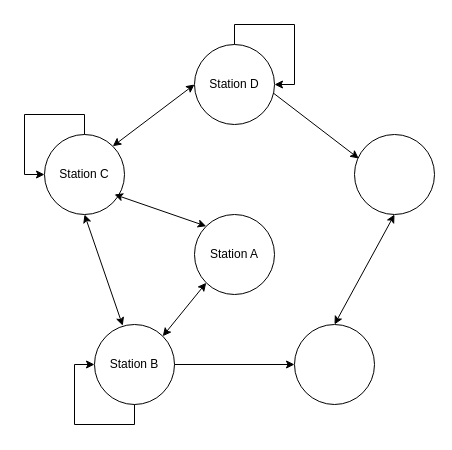
Some shapes in this 452 by 450 pixel diagram are drawn without their labels. The centre of each missing label's shape, as x and y in pixels:
"Station E" belongs at point (394, 174).
"Station F" belongs at point (334, 364).
